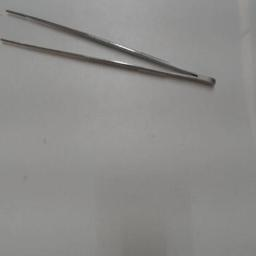DeBakey Dissector: (0, 6, 226, 96)
